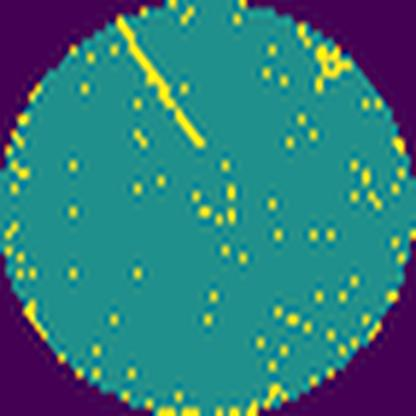Scratch: (115, 13, 210, 156)
